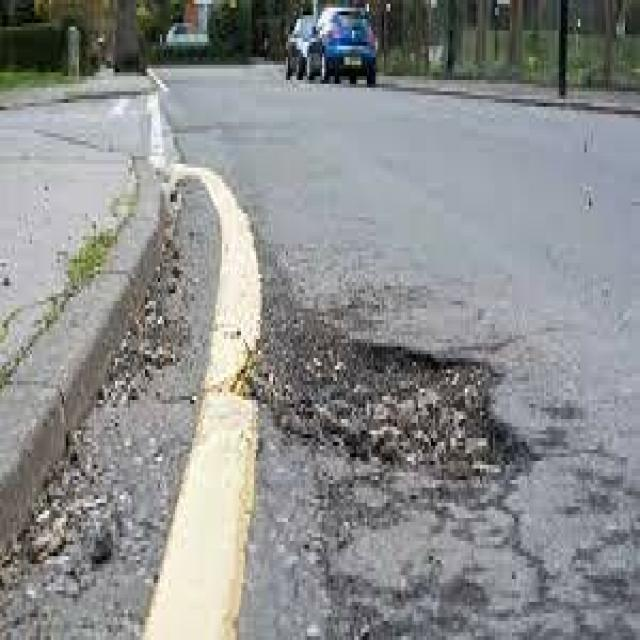pothole: (245, 275, 578, 515)
